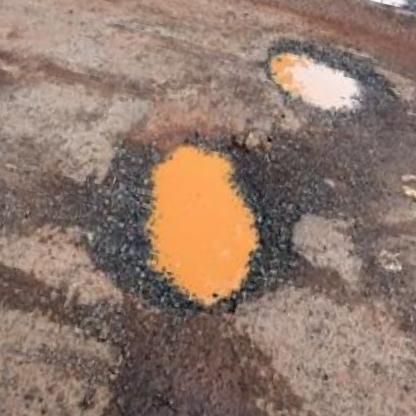pothole: (119, 120, 290, 324), (258, 40, 372, 123), (340, 0, 415, 15)
